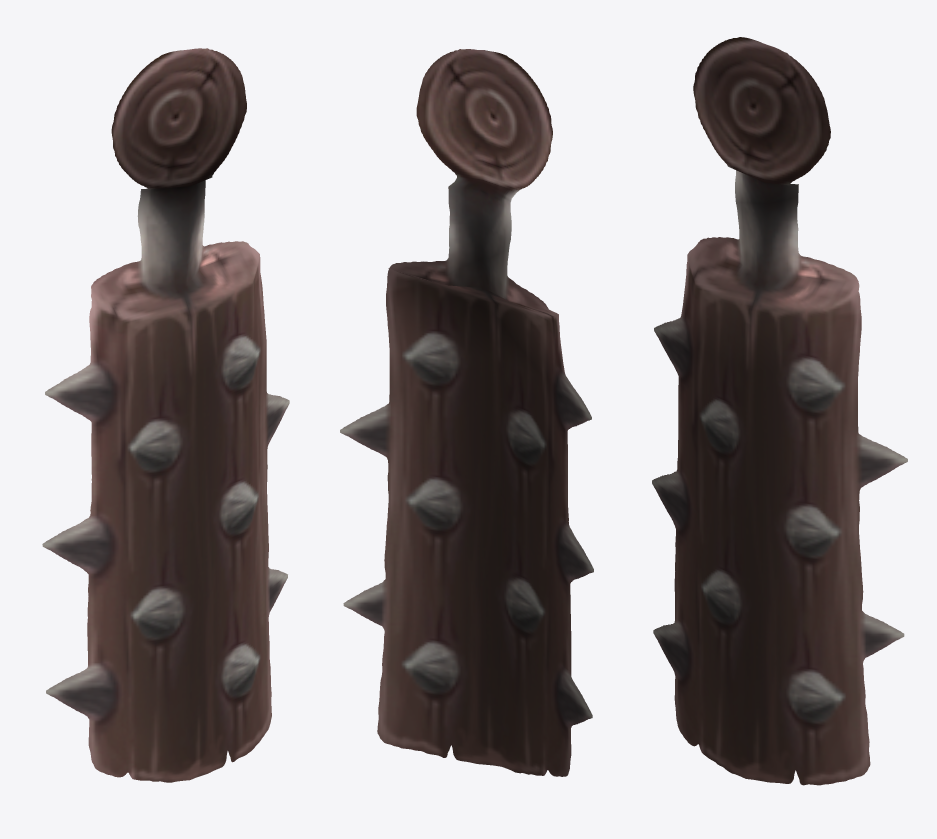
File: Spinning Spiked Log.FBX
3 renders of one model, left to right at view 1: azimuth 30°, elevation 25°; view 2: azimuth 150°, elevation 25°; view 3: azimuth 330°, elevation 25°, orthographic.
Visible parts, largest first — view 1: Spiinning Spiked Log; view 2: Spiinning Spiked Log; view 3: Spiinning Spiked Log.
Part boxes in pixels (x1,y1,x2,y2): Spiinning Spiked Log: (42, 48, 289, 782); Spiinning Spiked Log: (340, 49, 593, 776); Spiinning Spiked Log: (652, 37, 907, 785).
Size of the model in its own units: 132 by 27.65 by 343.
